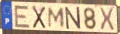8: (83, 7, 98, 32)
E: (13, 4, 31, 29)
M: (48, 7, 66, 29)
N: (64, 7, 82, 31)
X: (99, 7, 116, 32), (31, 5, 47, 30)
